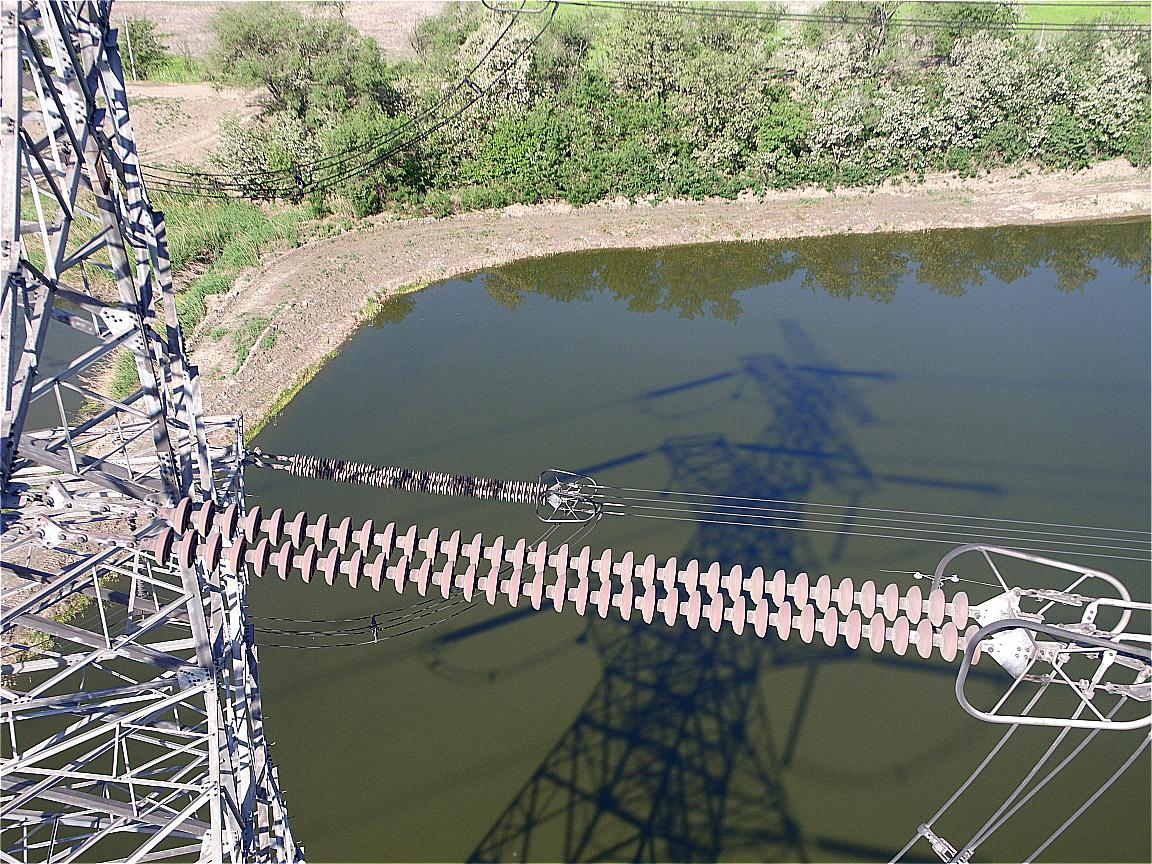insultor1: (156, 494, 982, 665)
insultor2: (288, 457, 549, 505)
